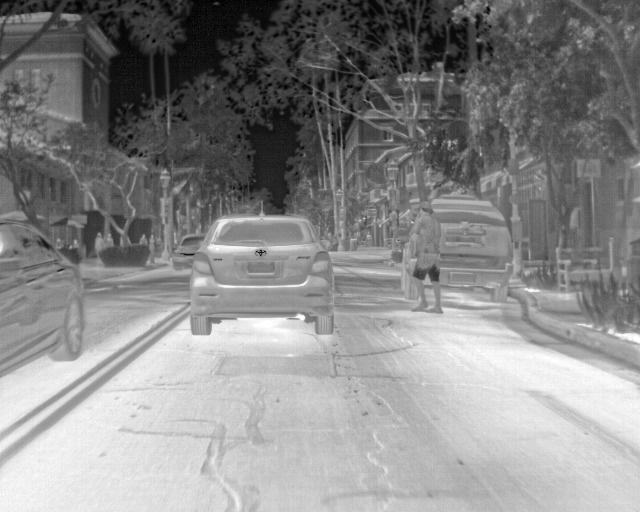bicycle: (189, 213, 337, 335), (0, 218, 86, 380), (401, 196, 513, 301), (169, 234, 205, 273)
empty: (409, 200, 444, 314), (94, 231, 104, 260), (147, 233, 156, 264), (104, 232, 114, 247), (67, 237, 80, 248), (137, 233, 148, 246)
